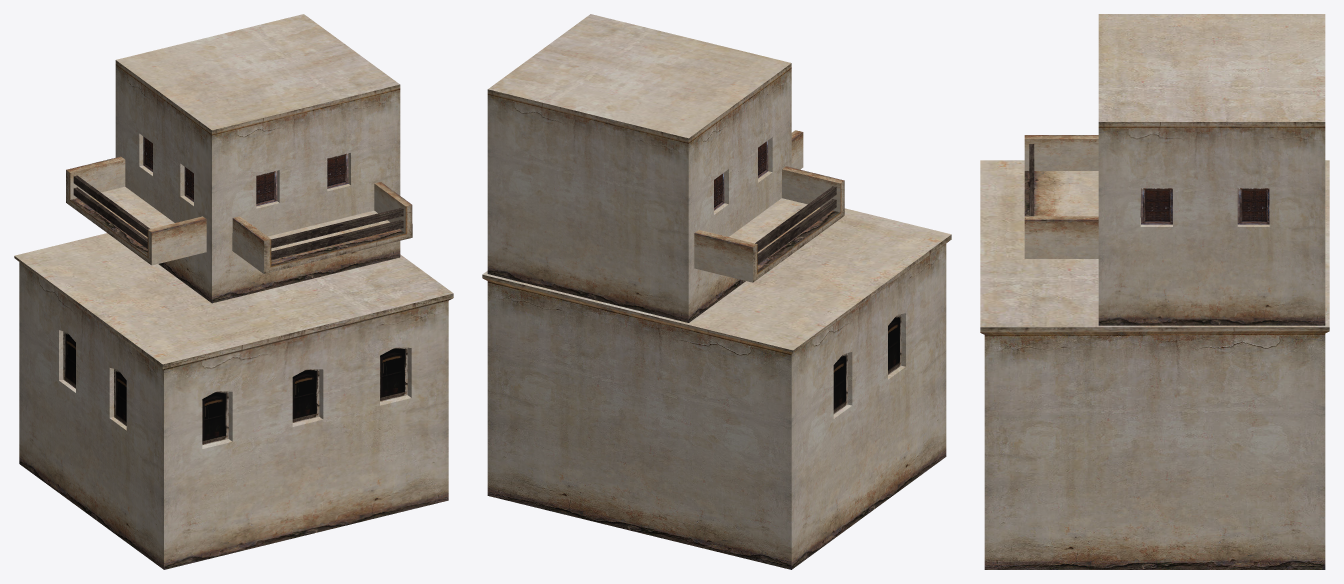
File: BuildingF.fbx
3 views of the same model, side by side, from view 1: azimuth 30°, elevation 25°; view 2: azimuth 150°, elevation 25°; view 3: azimuth 270°, elevation 25° (orthographic). The views are drawn at different scales.
Parts seen in each view (by area): view 1: BuildingF; view 2: BuildingF; view 3: BuildingF.
Part boxes in pixels (<box>): BuildingF: <box>14,14,453,569</box>; BuildingF: <box>482,14,951,569</box>; BuildingF: <box>980,14,1329,569</box>.
Size of the model in its own units: 1347 by 1683 by 1190.
